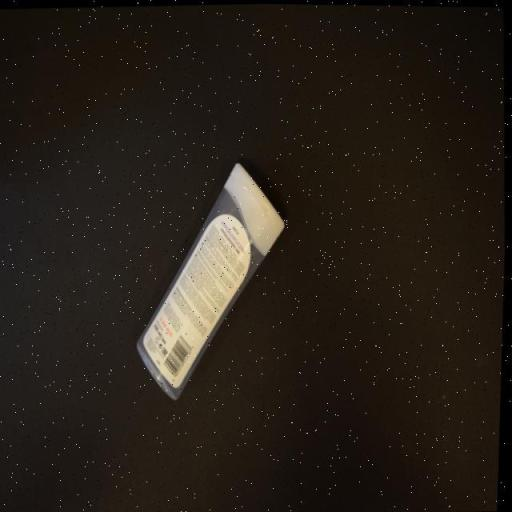plastic: (125, 159, 298, 399)
